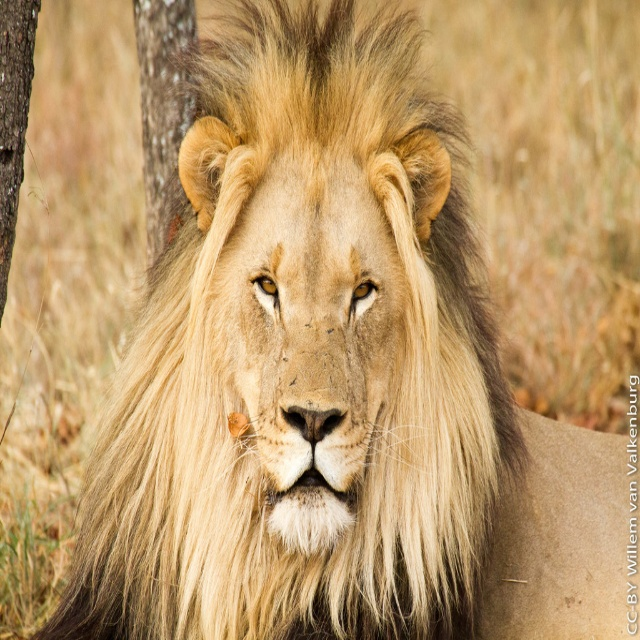Lion: (31, 0, 533, 640)
